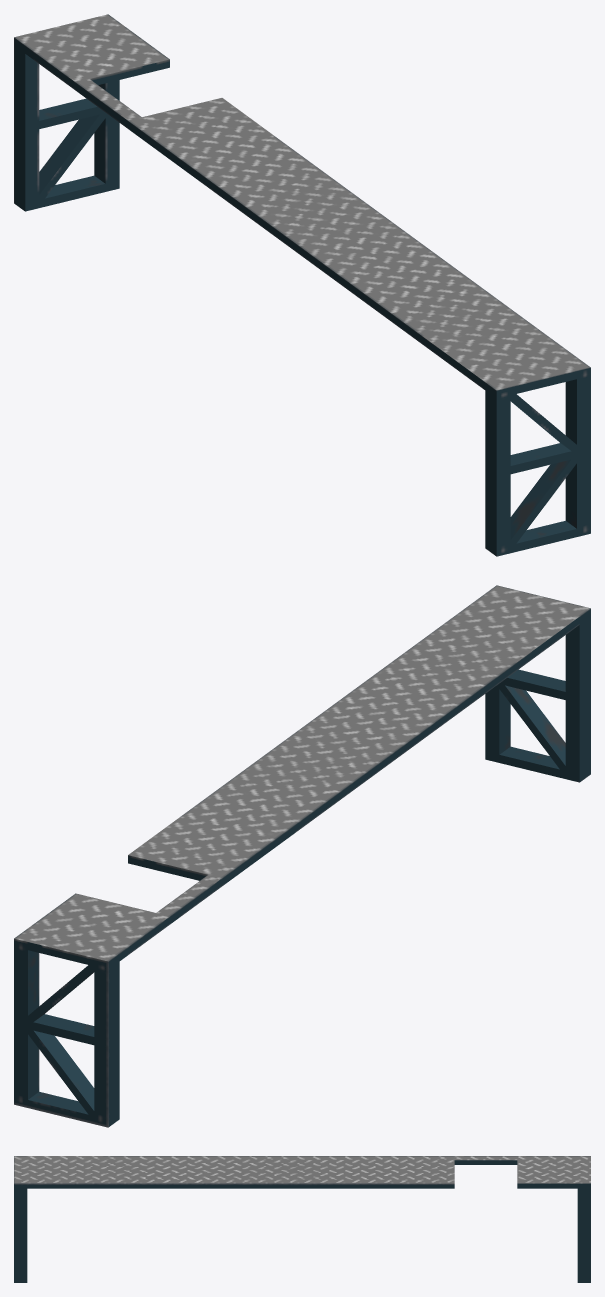
Rendered from platform_short.fbx.
3 views of the same model, one above another, from view 1: azimuth 30°, elevation 25°; view 2: azimuth 150°, elevation 25°; view 3: azimuth 270°, elevation 25° (orthographic). The views are drawn at different scales.
Parts seen in each view (by area): view 1: Cube.111; view 2: Cube.111; view 3: Cube.111.
Boxes of the visible parts, <box> form: Cube.111: <box>14,14,590,556</box>; Cube.111: <box>14,585,590,1127</box>; Cube.111: <box>14,1156,590,1282</box>.
Size of the model in its own units: 2360 by 3972 by 20920.
Materials: 1 (1 with a texture image).
